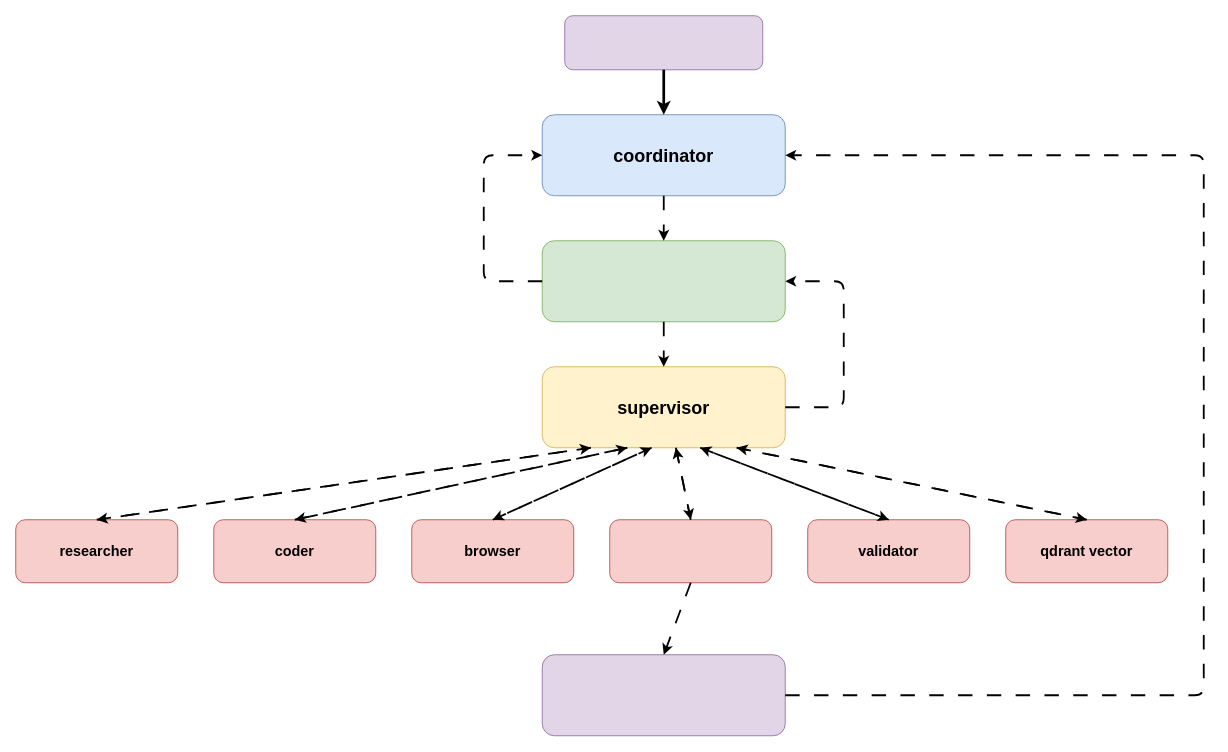
The diagram is 1228 pixels wide and 752 high, and some of its shapes have lost their labels. Here are the shapes that lost their labels. From the top down, the centre of each, then its label:
the point at 663,42: User Request
the point at 663,281: planner
the point at 690,551: reporter
the point at 663,695: _end_
